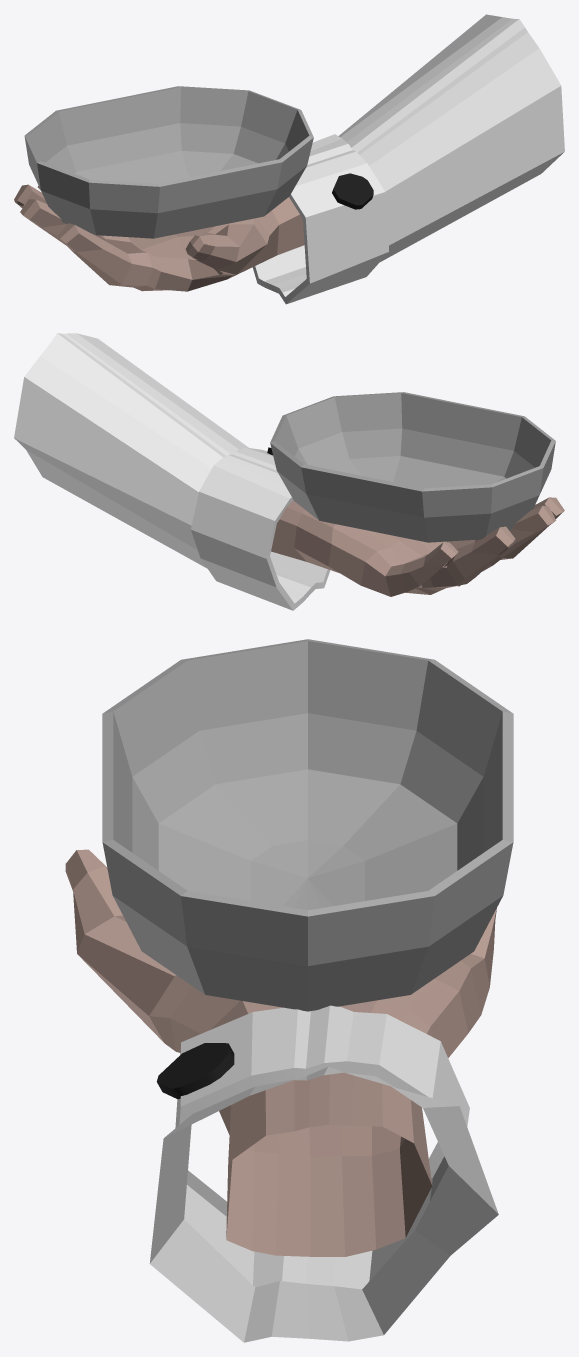
File: DocHand.fbx
3 views of the same model, one above another, from view 1: azimuth 30°, elevation 25°; view 2: azimuth 150°, elevation 25°; view 3: azimuth 270°, elevation 25° (orthographic). The views are drawn at different scales.
Parts seen in each view (by area): view 1: DoctorHand; view 2: DoctorHand; view 3: DoctorHand.
Part boxes in pixels (x1,y1,x2,y2): DoctorHand: [14, 14, 564, 304]; DoctorHand: [14, 333, 564, 610]; DoctorHand: [65, 639, 513, 1342].
Bounding box in the file's own units: 36.86 × 14.91 × 14.47.
